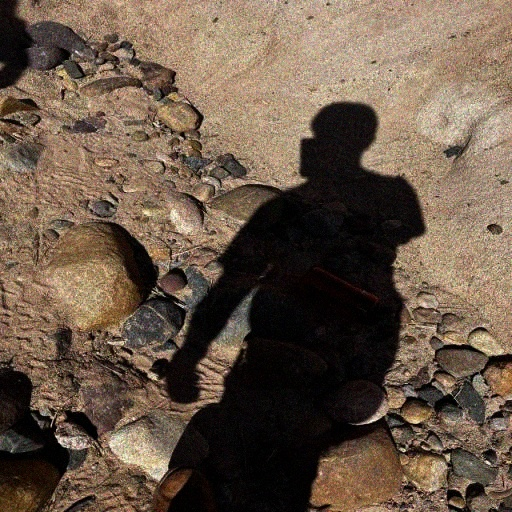bottle: (294, 266, 388, 326)
